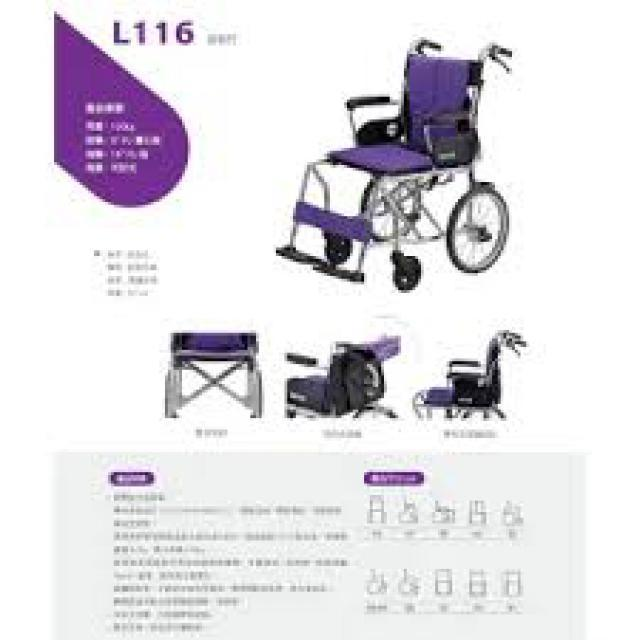wheelchair: (258, 31, 564, 293), (270, 318, 401, 436), (401, 316, 532, 430)
